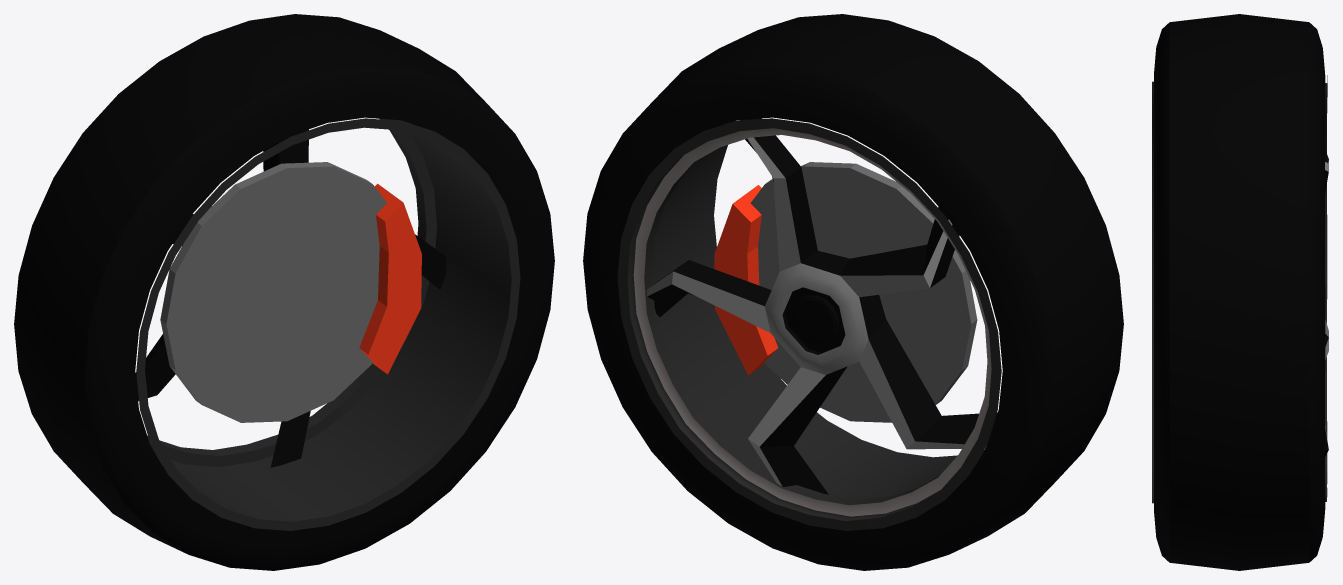
Rendered from tire_1.glb.
3 views of the same model, side by side, from view 1: azimuth 30°, elevation 25°; view 2: azimuth 150°, elevation 25°; view 3: azimuth 270°, elevation 25° (orthographic).
Parts seen in each view (by area): view 1: tire, rim_all, barke_disc, brake, rim; view 2: tire, rim_all, barke_disc, rim, rim_outer, rim_other, brake, front; view 3: tire, rim_all.
Part boxes in pixels (left/top/right/bottom): tire: left=14, top=14, right=554, bottom=570; rim_all: left=136, top=118, right=520, bottom=530; barke_disc: left=160, top=162, right=386, bottom=422; brake: left=359, top=183, right=421, bottom=374; rim: left=135, top=129, right=446, bottom=467; tire: left=583, top=14, right=1123, bottom=570; rim_all: left=617, top=118, right=1001, bottom=530; barke_disc: left=750, top=162, right=977, bottom=422; rim: left=647, top=118, right=997, bottom=494; rim_outer: left=647, top=120, right=986, bottom=486; rim_other: left=633, top=128, right=991, bottom=516; brake: left=714, top=185, right=778, bottom=375; front: left=792, top=295, right=839, bottom=344; tire: left=1154, top=14, right=1325, bottom=570; rim_all: left=1152, top=75, right=1327, bottom=503.
Bounding box in the file's own units: 0.631 × 0.631 × 0.2.
